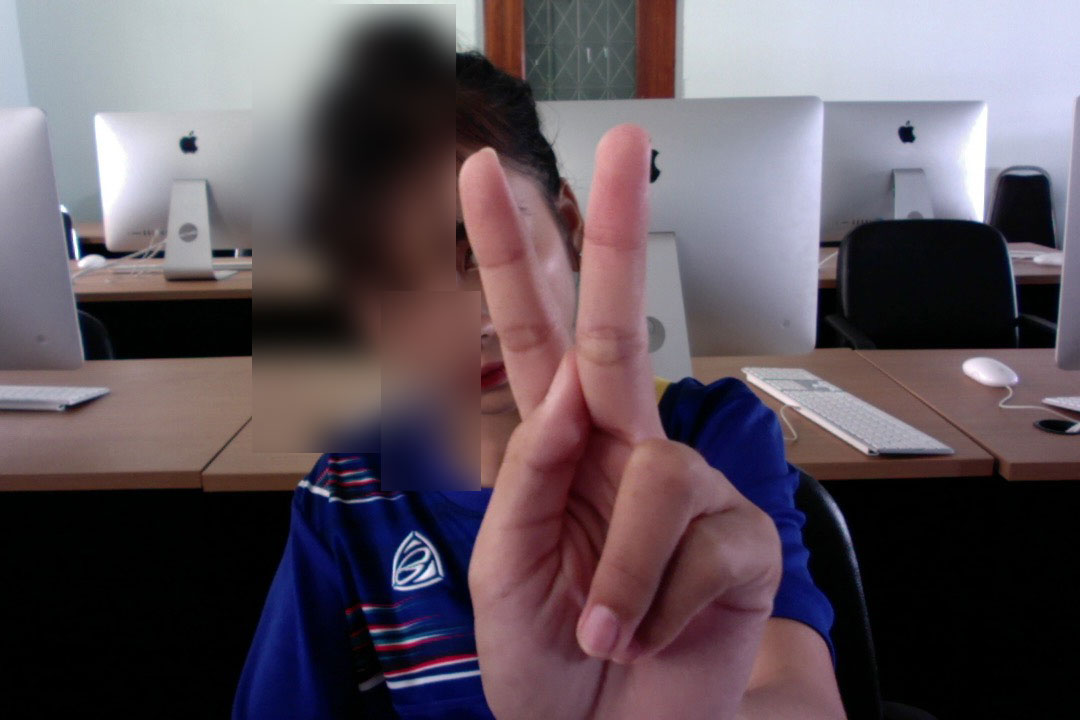ko: (403, 112, 786, 719)
